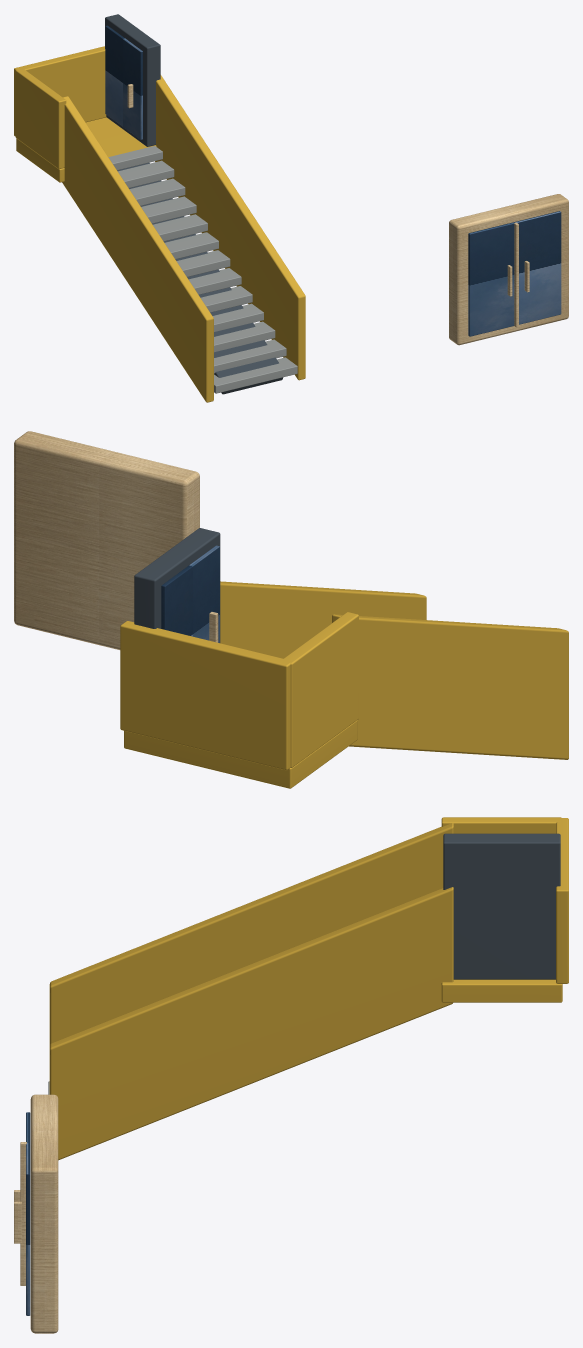
File: entrance.glb
3 renders of one model, top to bottom at view 1: azimuth 30°, elevation 25°; view 2: azimuth 150°, elevation 25°; view 3: azimuth 270°, elevation 25°, orthographic. The views are drawn at different scales.
Visible parts, largest first — view 1: entrance; view 2: entrance; view 3: entrance.
Part boxes in pixels (x1,y1,x2,y2): entrance: [14, 14, 568, 402]; entrance: [14, 431, 568, 788]; entrance: [14, 817, 568, 1333].
Bounding box in the file's own units: 3.36 × 2.04 × 3.22.
Materials: 5 (2 with a texture image).
